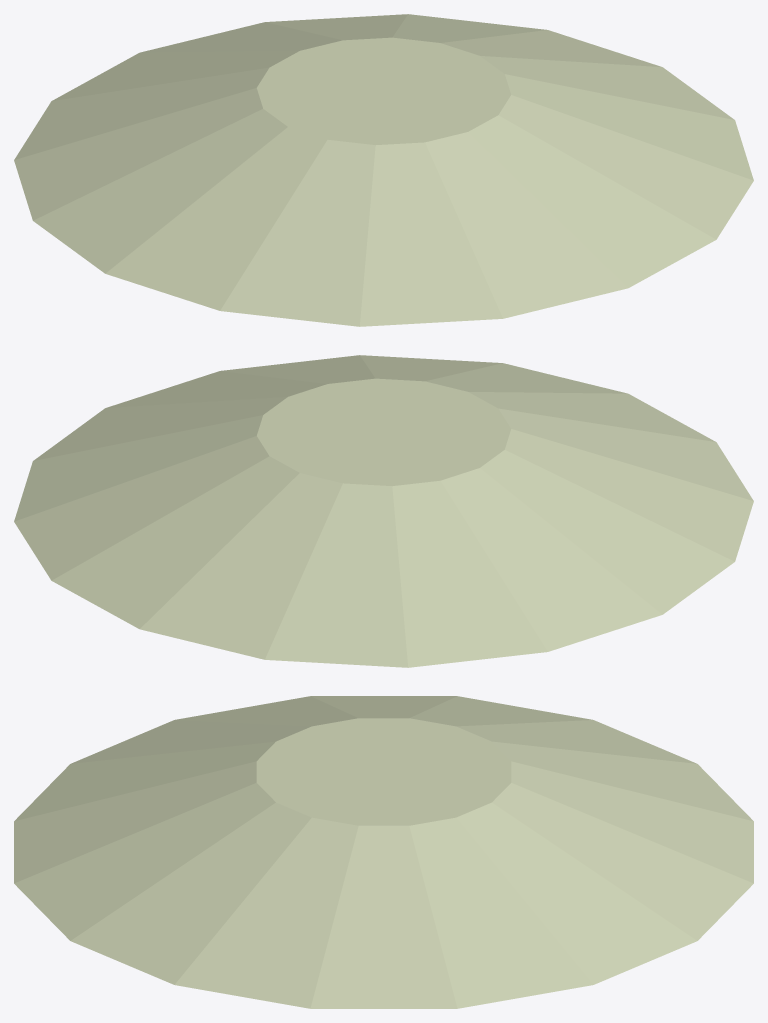
The model's file is Andromeda_Parachute_1_Collider.obj.
3 views of the same model, one above another, from view 1: azimuth 30°, elevation 25°; view 2: azimuth 150°, elevation 25°; view 3: azimuth 270°, elevation 25° (orthographic).
Visible parts, largest first — view 1: Andromeda_Parachute_1_Collider; view 2: Andromeda_Parachute_1_Collider; view 3: Andromeda_Parachute_1_Collider.
Boxes of the visible parts, <box> form: Andromeda_Parachute_1_Collider: <box>14,14,753,326</box>; Andromeda_Parachute_1_Collider: <box>14,355,753,667</box>; Andromeda_Parachute_1_Collider: <box>14,696,753,1008</box>.
Size of the model in its own units: 0.625 by 0.075 by 0.625.
